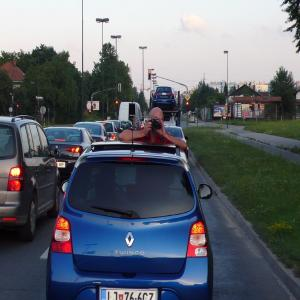Vehicle-registration-plate: (98, 288, 161, 300), (57, 162, 67, 168)
